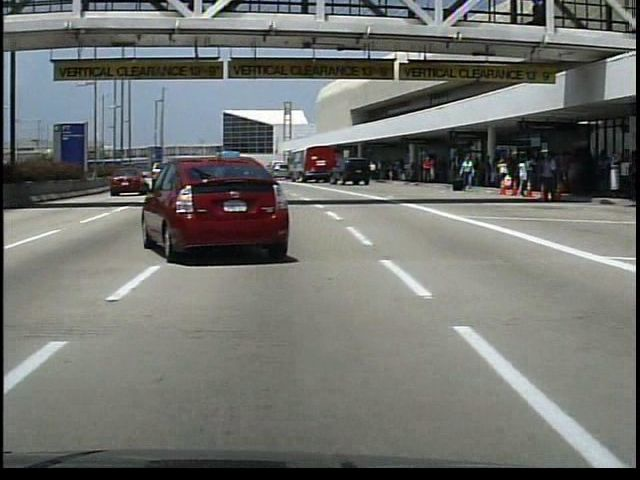person: (536, 153, 558, 205), (459, 155, 477, 194), (420, 156, 435, 184), (368, 162, 378, 181)
